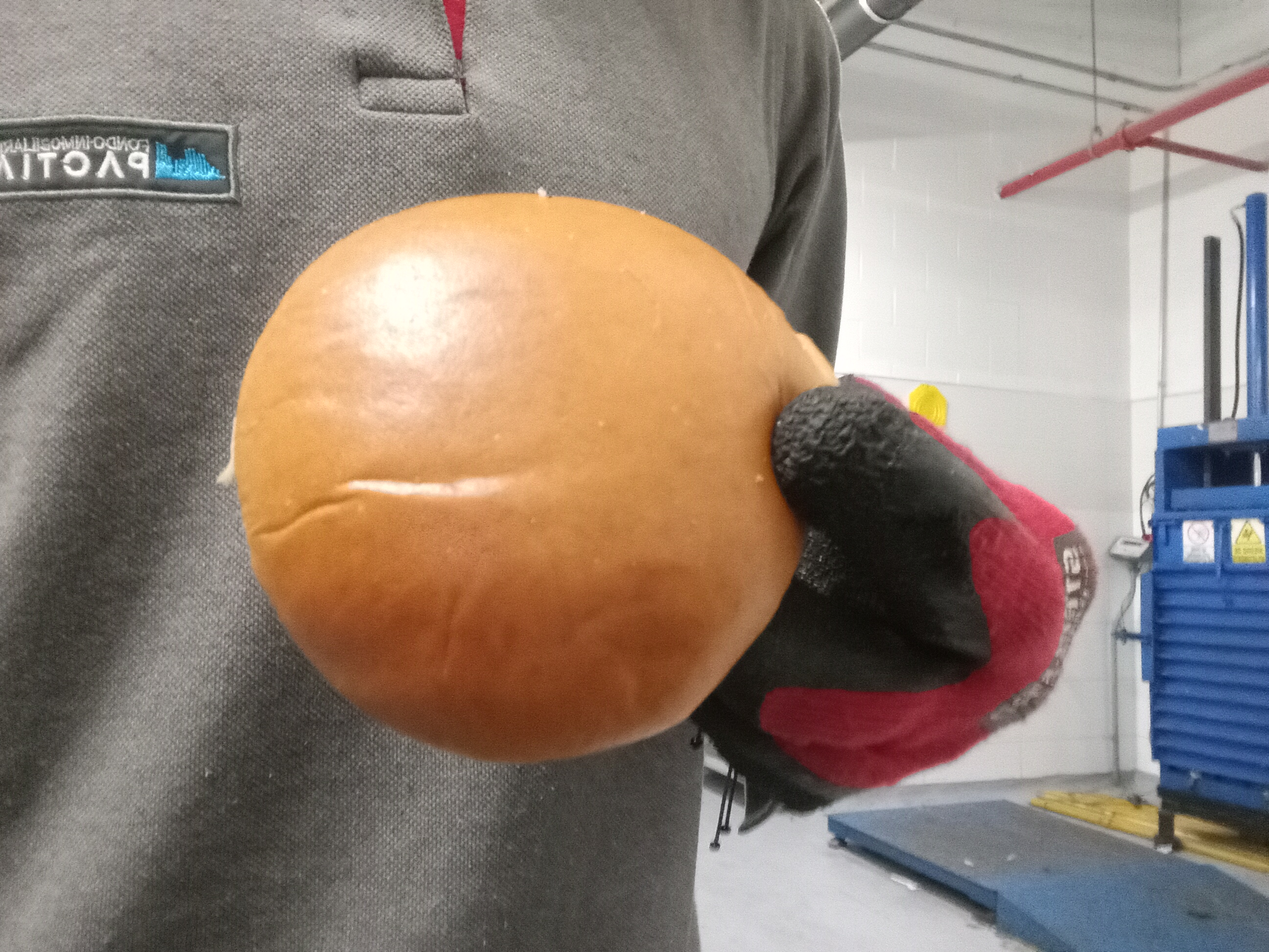Organico: (231, 191, 831, 766)
